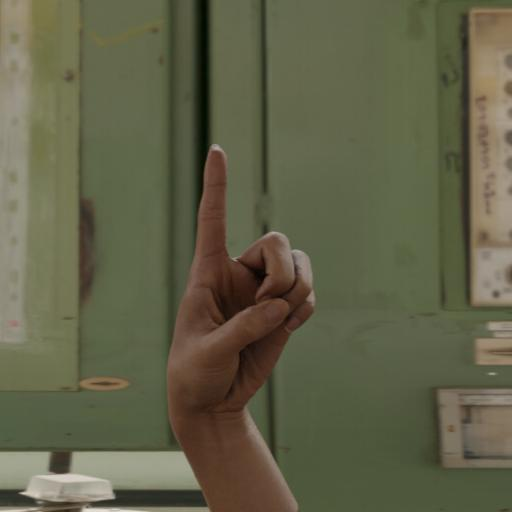D: (152, 122, 338, 461)
